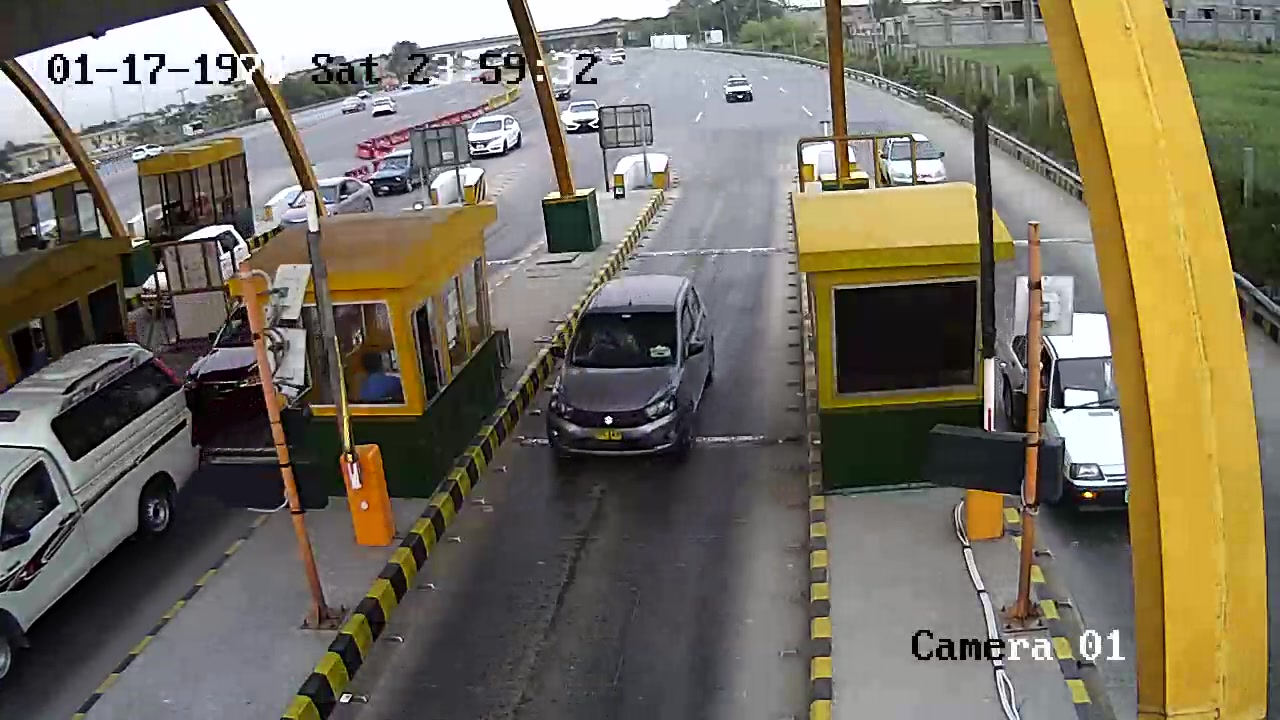F1: (540, 269, 722, 481)
